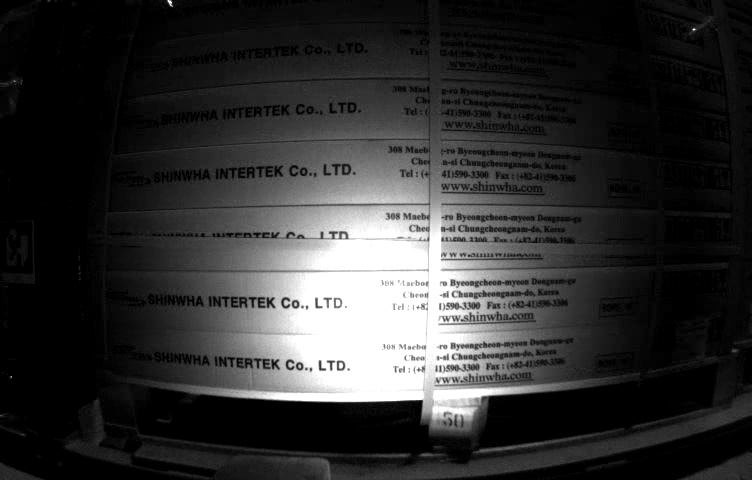True Barcode: (672, 319, 707, 362)
